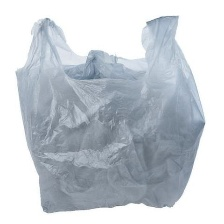plastic_bag: (11, 4, 211, 218)
